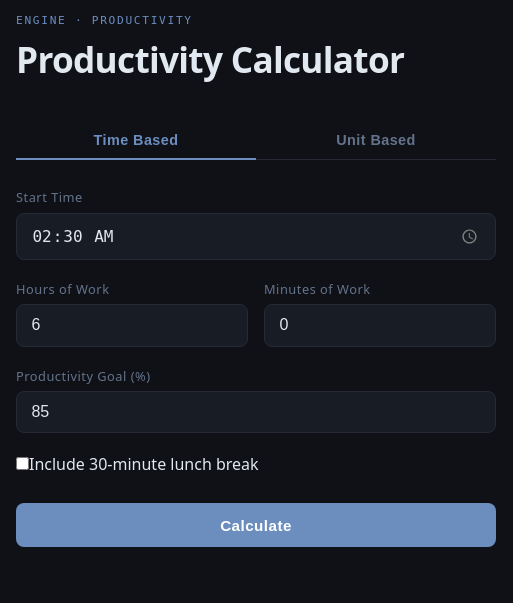
Test case: CalculatorPage › shows error on API failure
The width and height of the screenshot is (513, 603).
Click the button "Calculate": (256, 525) [16,503,496,548]
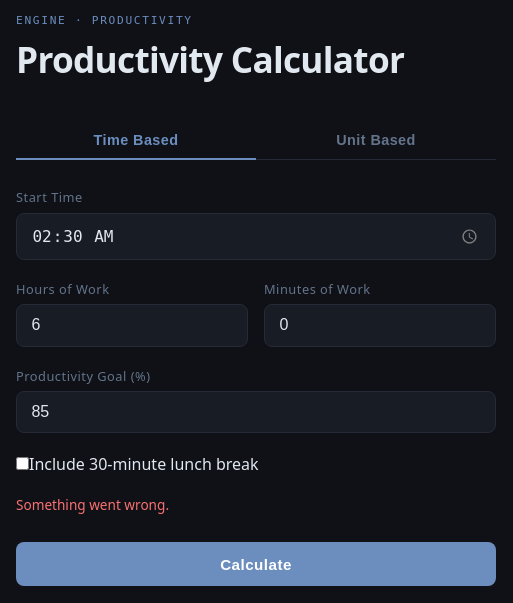
expect the text "Something went wrong." is shown: met, box [16,495,169,514]
